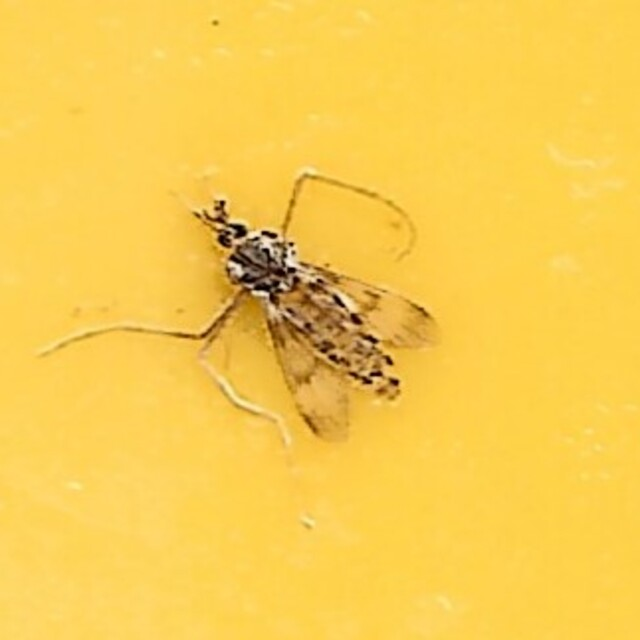Nematocera: (198, 191, 442, 449)
